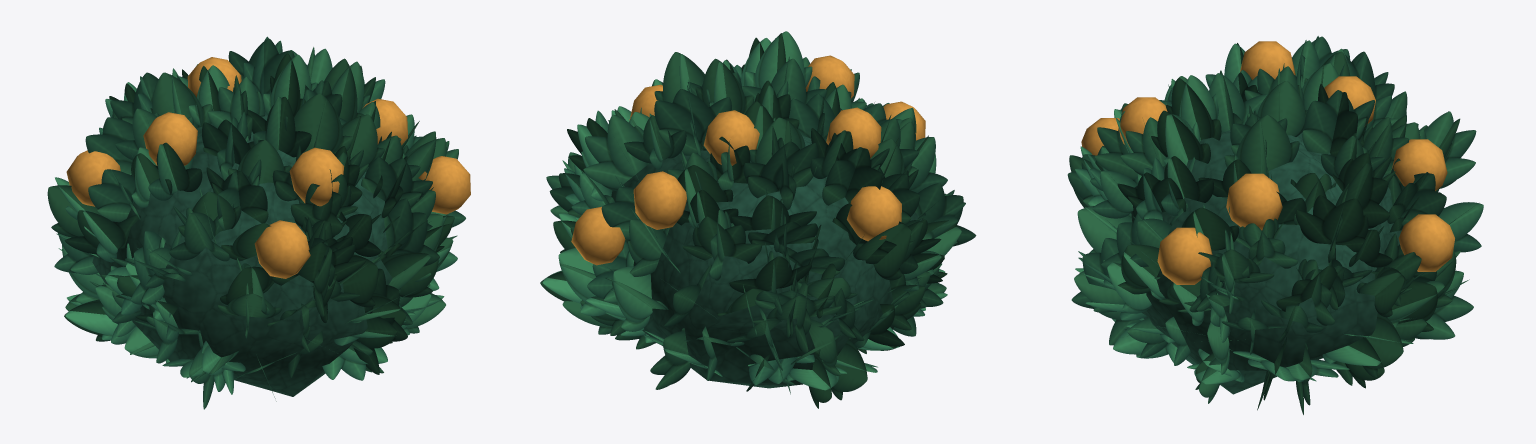
Rendered from creature_fruit_bush.glb.
3 views of the same model, side by side, from view 1: azimuth 30°, elevation 25°; view 2: azimuth 150°, elevation 25°; view 3: azimuth 270°, elevation 25° (orthographic).
Visible parts, largest first — view 1: Bush, Fruit; view 2: Bush, Fruit; view 3: Bush, Fruit.
Boxes of the visible parts, x1,y1,x2,y2 form: Bush: (47,36,465,409); Fruit: (66,57,470,278); Bush: (540,31,976,408); Fruit: (571,55,925,265); Bush: (1067,36,1483,414); Fruit: (1081,41,1454,284).
Size of the model in its own units: 1.06 by 0.785 by 1.06.
Materials: 3 (3 with a texture image).
